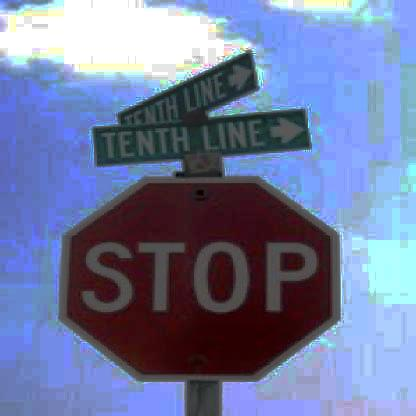Stop Sign: (54, 170, 350, 389)
